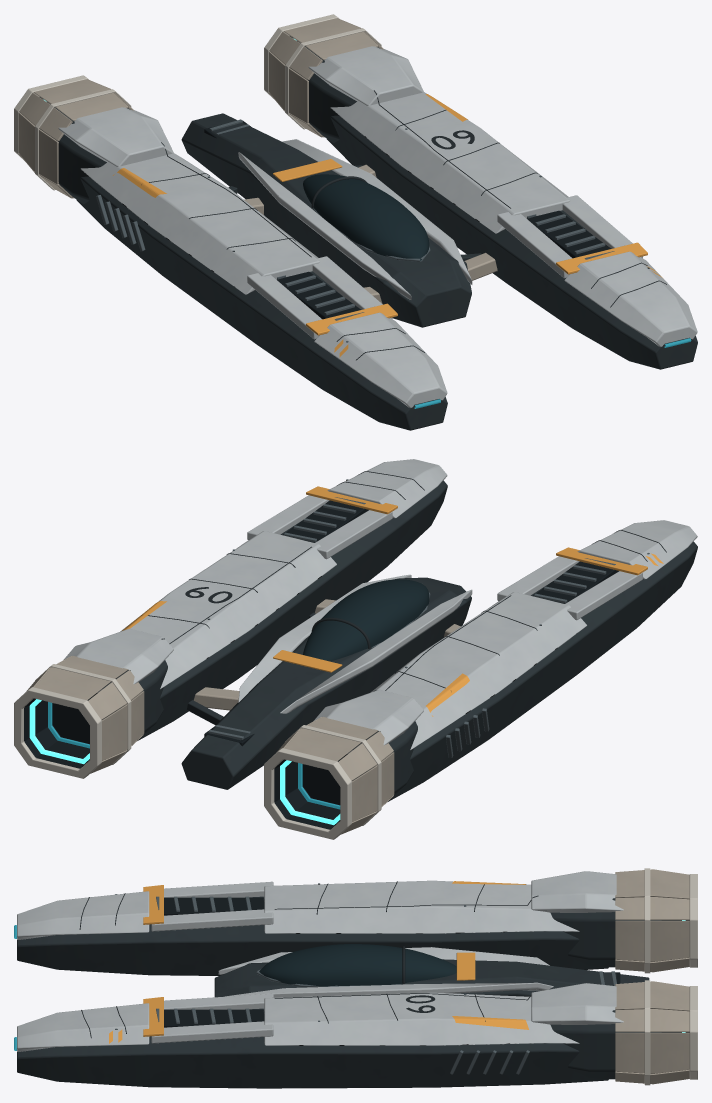
Rendered from bastion.glb.
3 renders of one model, top to bottom at view 1: azimuth 30°, elevation 25°; view 2: azimuth 150°, elevation 25°; view 3: azimuth 270°, elevation 25°, orthographic. The views are drawn at different scales.
Parts seen in each view (by area): view 1: bastion_Ceramic_Geometry, bastion_carbon_Geometry, bastion_metal_Geometry, bastion_Glass_Geometry, bastion_accent_Geometry, bastion_darkmetal_Geometry, bastion_vent_Geometry, bastion_machined_Geometry, bastion_edge_Geometry; view 2: bastion_Ceramic_Geometry, bastion_carbon_Geometry, bastion_metal_Geometry, bastion_vent_Geometry, bastion_machined_Geometry, bastion_Glass_Geometry, bastion_accent_Geometry, bastion_darkmetal_Geometry, bastion_edge_Geometry, bastion_Power_Geometry, bastion_Standby_Geometry; view 3: bastion_Ceramic_Geometry, bastion_carbon_Geometry, bastion_metal_Geometry, bastion_Glass_Geometry, bastion_machined_Geometry, bastion_vent_Geometry, bastion_accent_Geometry, bastion_darkmetal_Geometry, bastion_edge_Geometry.
Boxes of the visible parts, x1,y1,x2,y2 form: bastion_Ceramic_Geometry: [58, 46, 697, 407]; bastion_carbon_Geometry: [40, 42, 697, 430]; bastion_metal_Geometry: [18, 18, 497, 303]; bastion_Glass_Geometry: [303, 174, 429, 260]; bastion_accent_Geometry: [113, 94, 662, 357]; bastion_darkmetal_Geometry: [96, 119, 649, 342]; bastion_vent_Geometry: [39, 36, 611, 319]; bastion_machined_Geometry: [14, 14, 381, 190]; bastion_edge_Geometry: [141, 90, 666, 360]; bastion_Ceramic_Geometry: [63, 459, 697, 753]; bastion_carbon_Geometry: [93, 480, 697, 801]; bastion_metal_Geometry: [27, 599, 460, 834]; bastion_vent_Geometry: [24, 500, 618, 829]; bastion_machined_Geometry: [14, 664, 381, 839]; bastion_Glass_Geometry: [303, 579, 429, 661]; bastion_accent_Geometry: [122, 486, 663, 716]; bastion_darkmetal_Geometry: [207, 479, 649, 757]; bastion_edge_Geometry: [141, 471, 666, 691]; bastion_Power_Geometry: [29, 699, 340, 825]; bastion_Standby_Geometry: [48, 702, 340, 809]; bastion_Ceramic_Geometry: [17, 871, 623, 1051]; bastion_carbon_Geometry: [17, 896, 661, 1088]; bastion_metal_Geometry: [615, 869, 689, 1084]; bastion_Glass_Geometry: [259, 944, 456, 986]; bastion_machined_Geometry: [644, 868, 697, 1085]; bastion_vent_Geometry: [164, 897, 689, 1032]; bastion_accent_Geometry: [109, 881, 528, 1043]; bastion_darkmetal_Geometry: [115, 883, 616, 1074]; bastion_edge_Geometry: [79, 881, 538, 1038].
Size of the model in its own units: 3.62 by 0.9106 by 6.61.
11 materials, 4 textured.
